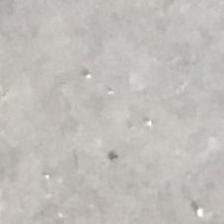Non_Crack: (13, 18, 203, 212)
